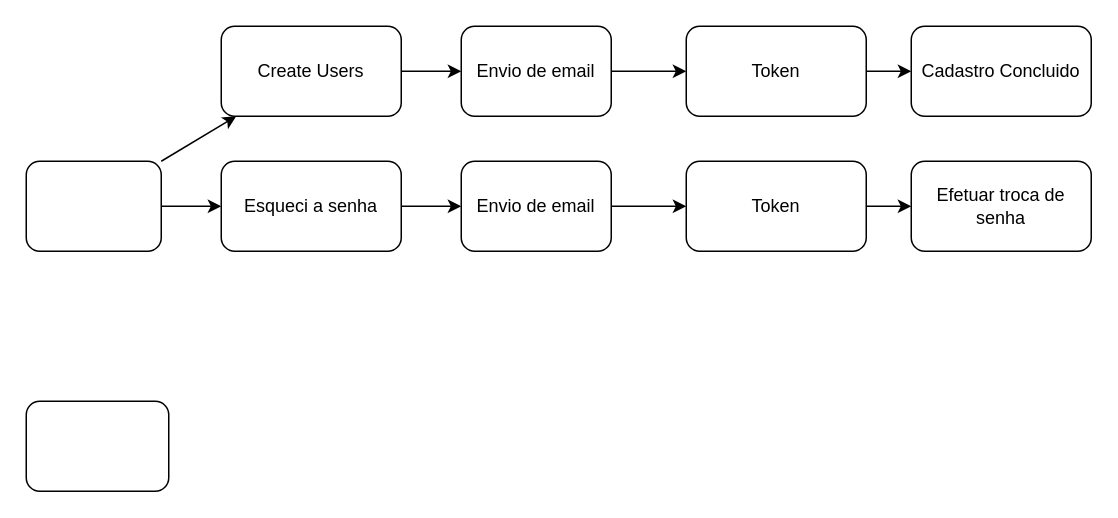
The diagram is 1118 pixels wide and 518 high, and some of its shapes have lost their labels. Here are the shapes that lost their labels. From the top down, the centre of each, then its label:
At point 93,205: "Crud SupaBase".
At point 97,445: "Token Control".
